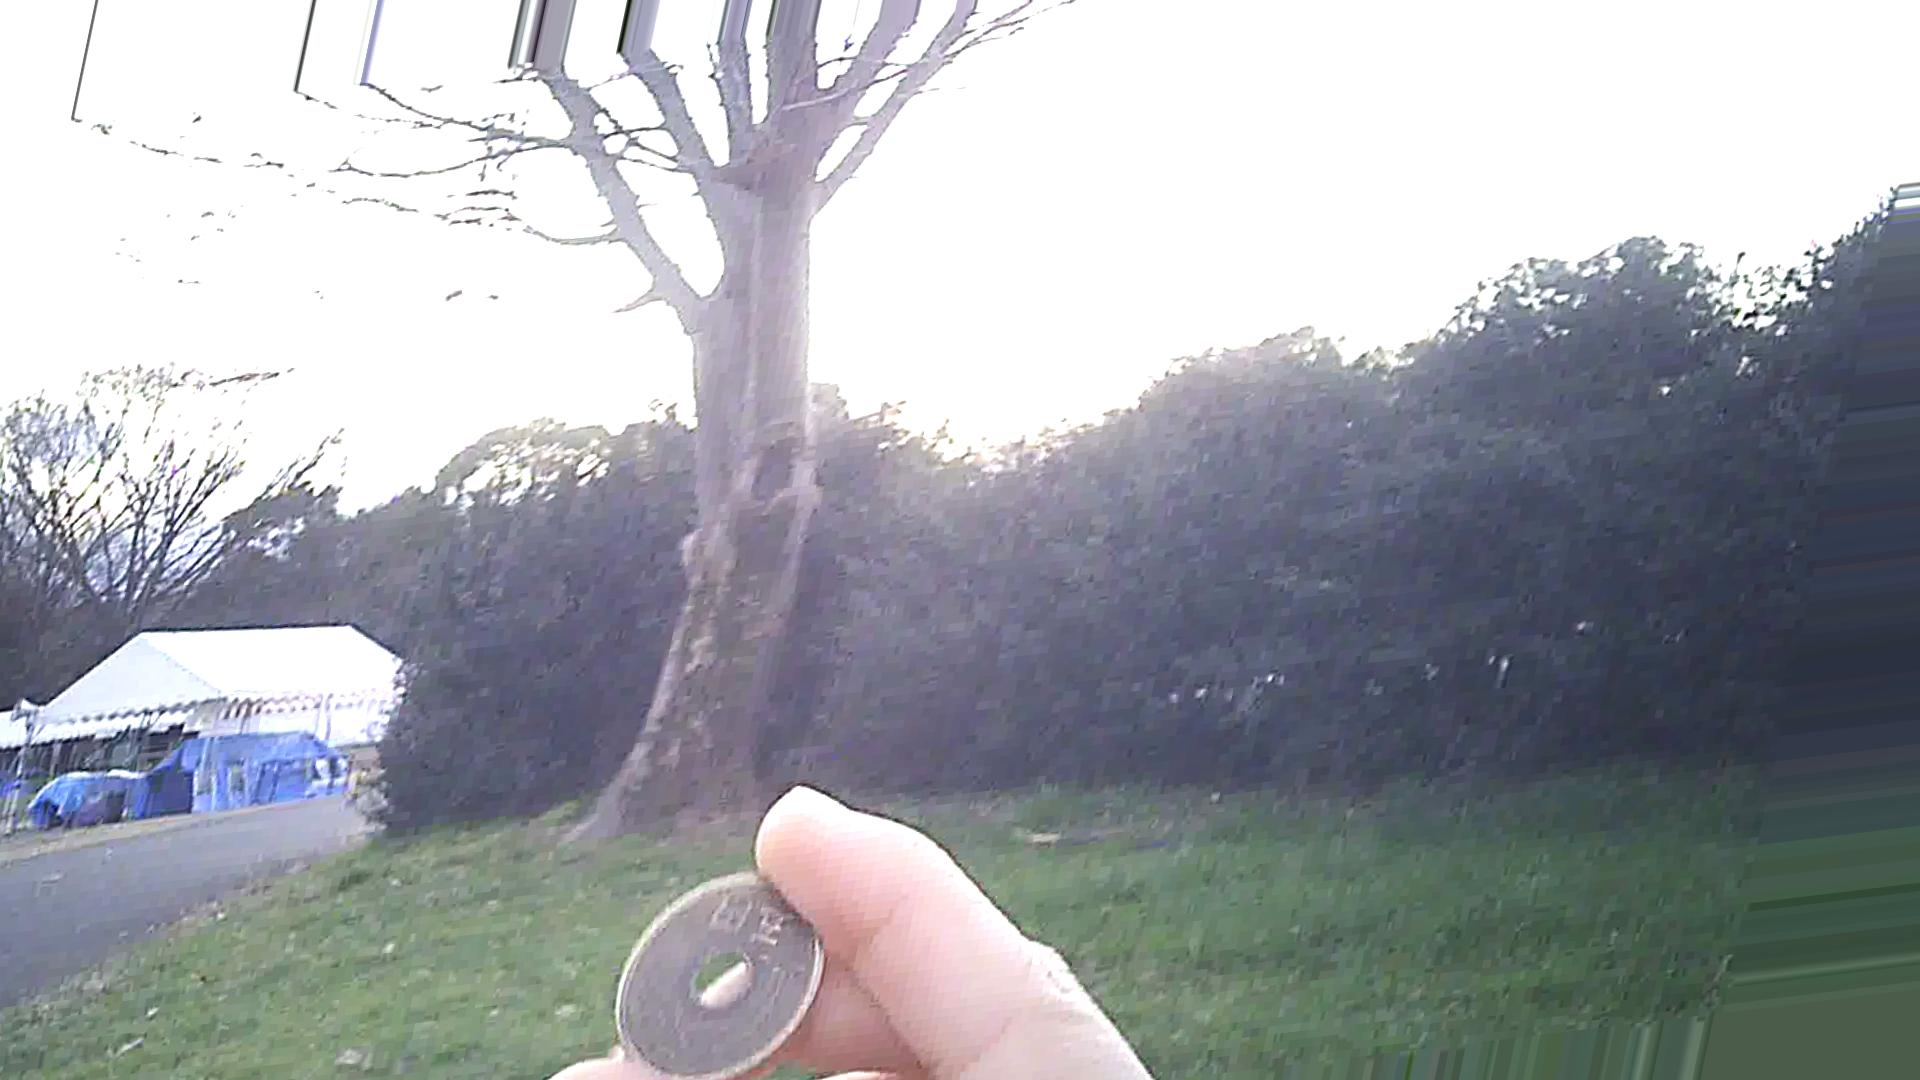5 Yen: (601, 872, 833, 1073)
